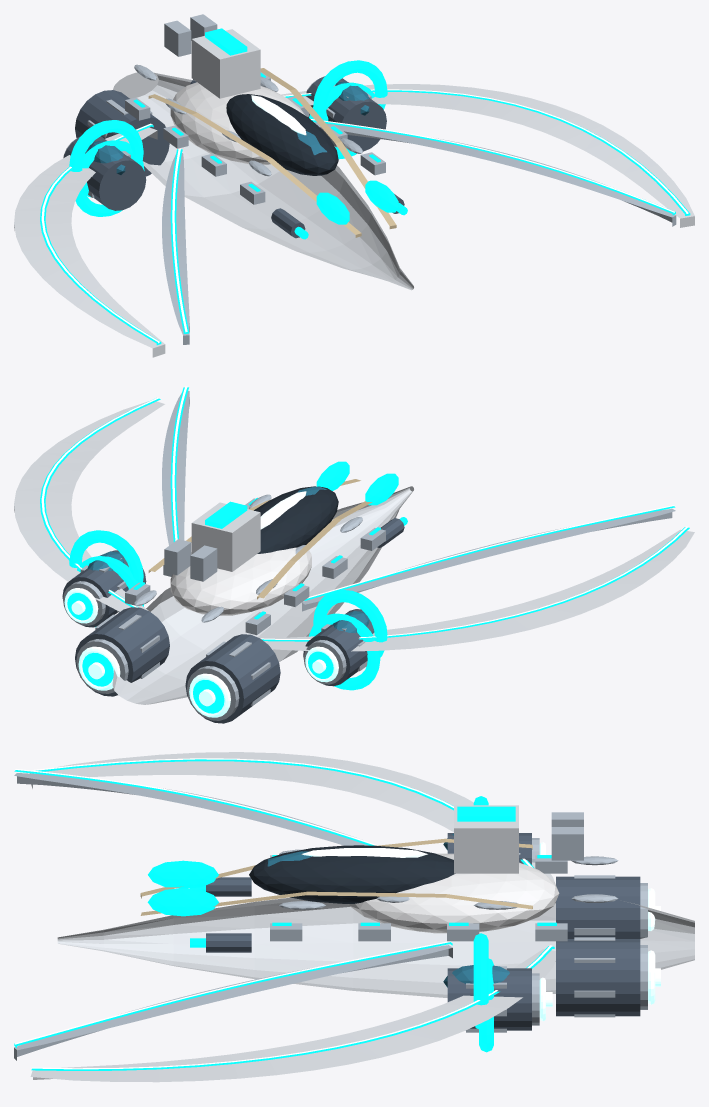
File: SL_LEVIATHAN_FINAL.glb
The picture shows the model from 3 angles, top to bottom: view 1: azimuth 30°, elevation 25°; view 2: azimuth 150°, elevation 25°; view 3: azimuth 270°, elevation 25°; orthographic projection. The views are drawn at different scales.
Visible parts, largest first — view 1: armor, neon, panel, shadow, black, highlight, bright, trim, glass; view 2: armor, panel, neon, shadow, bright, highlight, black, trim, glass; view 3: armor, panel, shadow, neon, highlight, black, bright, trim, glass.
Part boxes in pixels (x1,y1,x2,y2): armor: (14,29,694,357); neon: (40,28,690,345); panel: (63,14,676,344); shadow: (63,76,404,238); black: (226,94,338,175); highlight: (170,82,305,164); bright: (41,89,688,343); trim: (148,68,396,237); glass: (87,81,369,174); armor: (14,401,694,704); panel: (63,391,675,720); neon: (40,387,689,713); shadow: (62,518,404,723); bright: (41,386,688,717); highlight: (170,547,311,615); black: (254,486,338,553); trim: (148,479,372,599); glass: (87,486,369,632); armor: (30,752,694,1082); panel: (14,773,647,1060); shadow: (206,833,640,1030); neon: (14,759,556,1070); highlight: (348,853,559,933); black: (249,845,455,903); bright: (15,758,660,1069); trim: (140,838,532,915); glass: (267,833,509,987).
Size of the model in its own units: 7.18 by 1.77 by 6.29.
